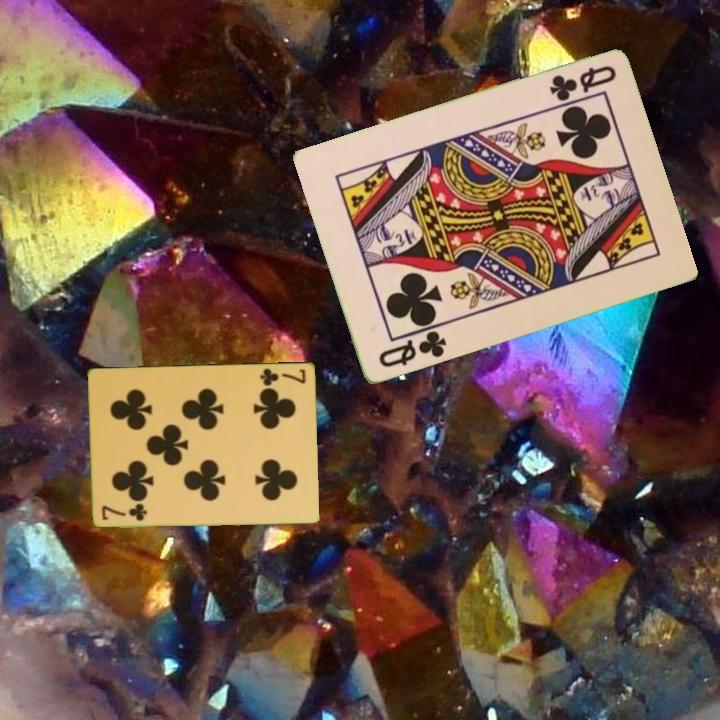7c: (257, 364, 309, 389), (98, 501, 150, 523)
Qc: (375, 327, 450, 371), (545, 62, 619, 105)
